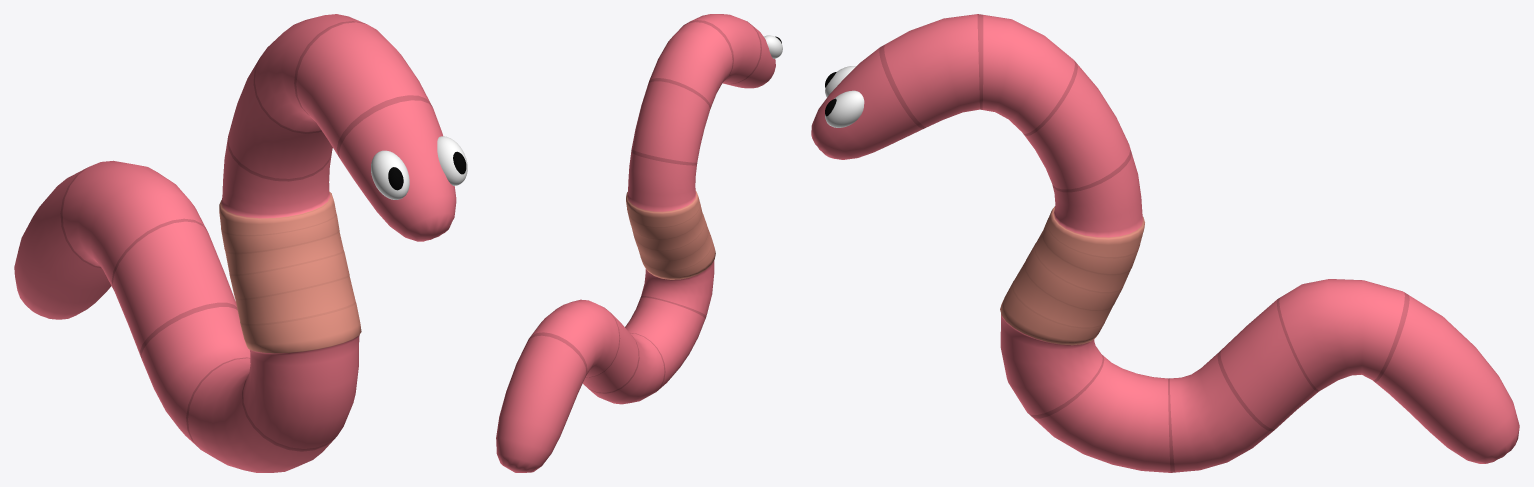
File: worn1.fbx
3 views of the same model, side by side, from view 1: azimuth 30°, elevation 25°; view 2: azimuth 150°, elevation 25°; view 3: azimuth 270°, elevation 25° (orthographic). The views are drawn at different scales.
Parts seen in each view (by area): view 1: Sphere.002; view 2: Sphere.002; view 3: Sphere.002.
Part boxes in pixels (<box>): Sphere.002: <box>14,14,467,472</box>; Sphere.002: <box>496,14,782,472</box>; Sphere.002: <box>811,14,1519,472</box>.
Bounding box in the file's own units: 33.52 × 159 × 227.
